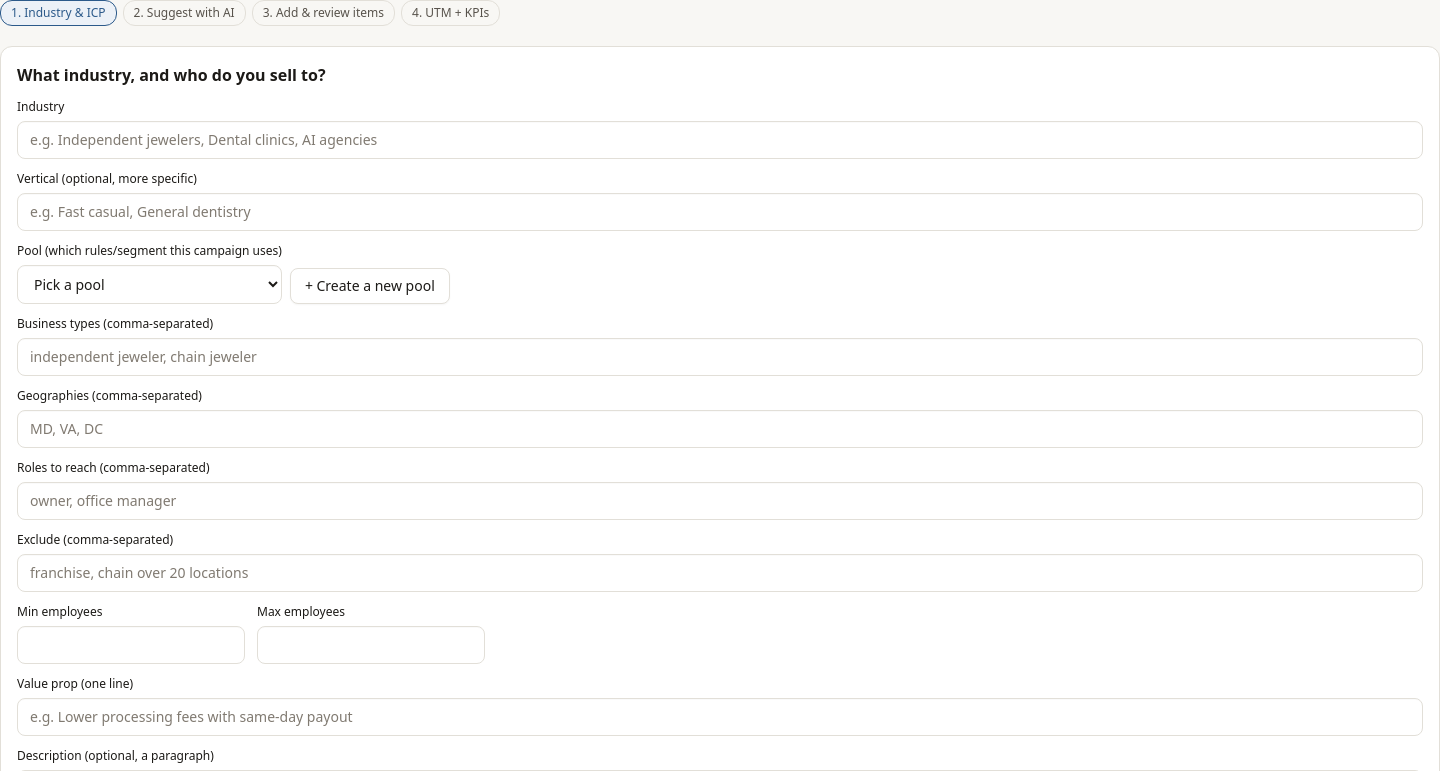
Campaign profile wizard › Step 2: shows the "AI suggestions need an AI provider" message when not configured
The width and height of the screenshot is (1440, 771).
Click the button "2. Suggest with AI": point(184, 13) top-left (123, 0), bottom-right (246, 26)
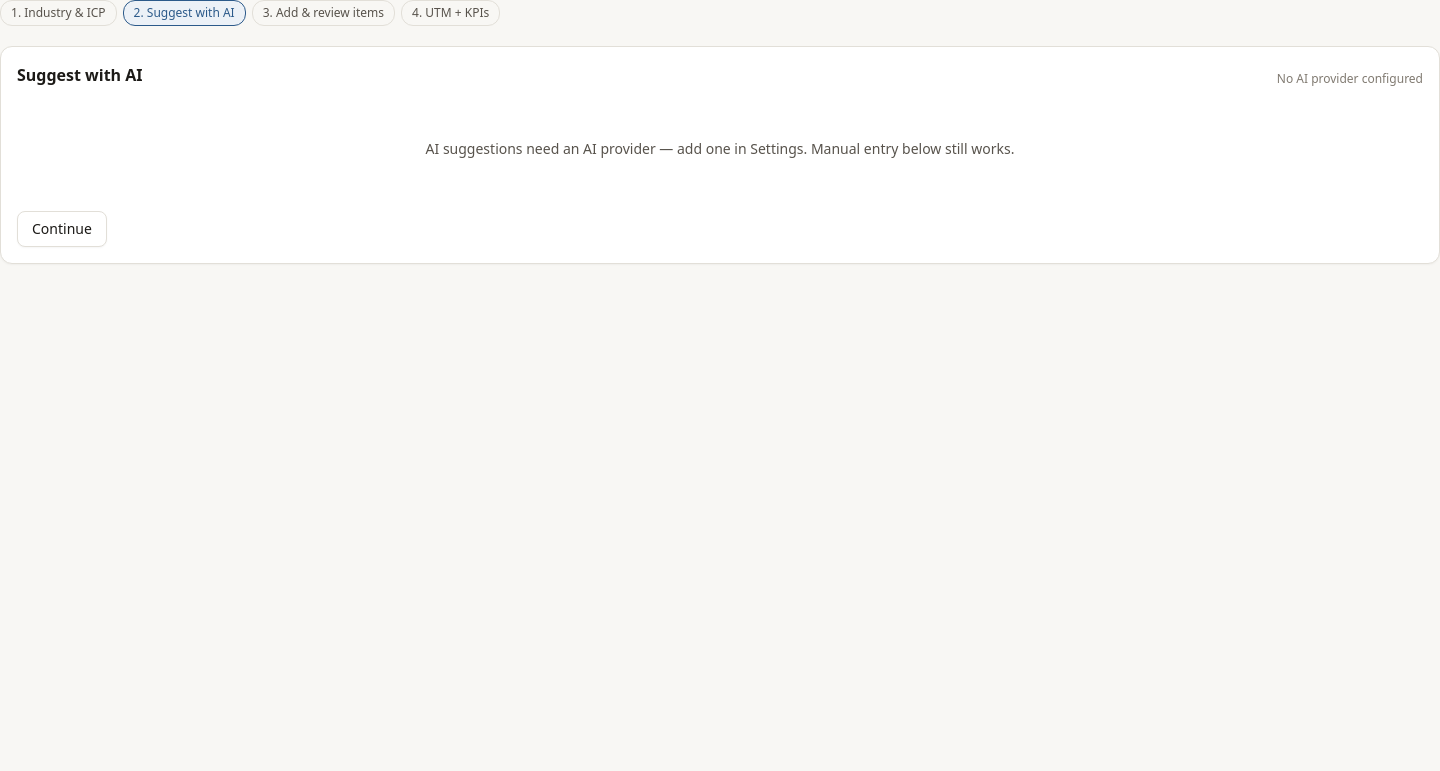
Expected: the text "AI suggestions need an AI provider — add one in Settings" is shown, top-left (426, 139), bottom-right (1014, 158)
